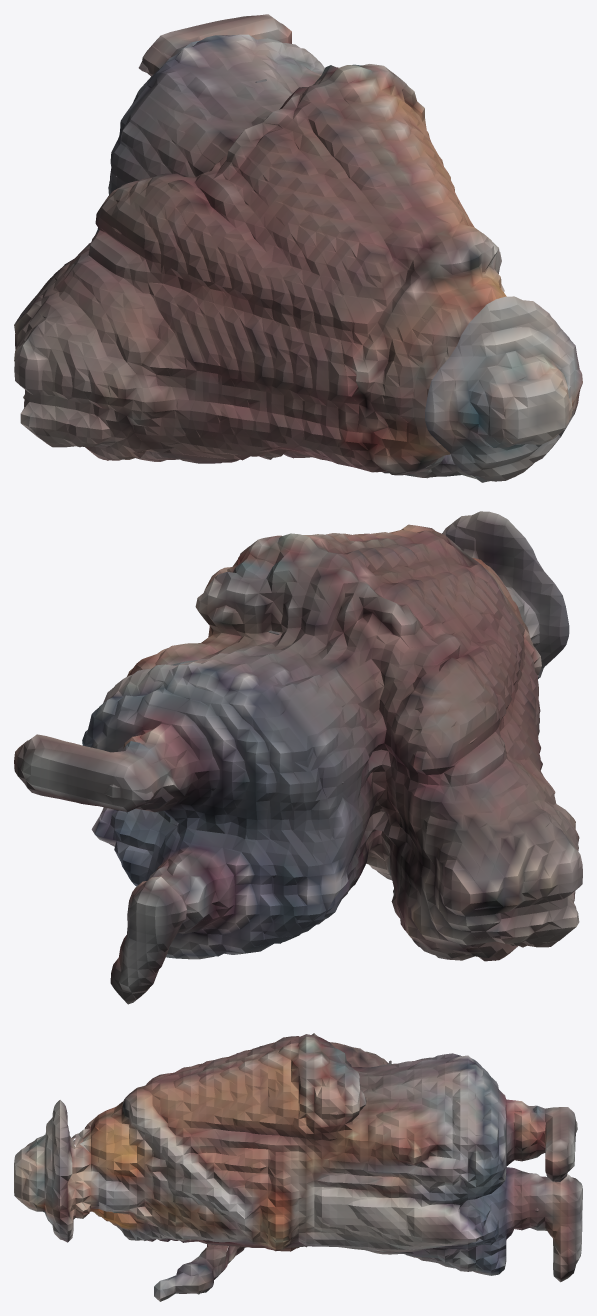
File: prehist_merchant_m_0.glb
3 renders of one model, top to bottom at view 1: azimuth 30°, elevation 25°; view 2: azimuth 150°, elevation 25°; view 3: azimuth 270°, elevation 25°, orthographic. The views are drawn at different scales.
Visible parts, largest first — view 1: world; view 2: world; view 3: world.
Part boxes in pixels (x1,y1,x2,y2): world: [14, 14, 582, 482]; world: [14, 511, 582, 1004]; world: [14, 1033, 582, 1301].
Size of the model in its own units: 0.6163 by 0.5047 by 1.01.
